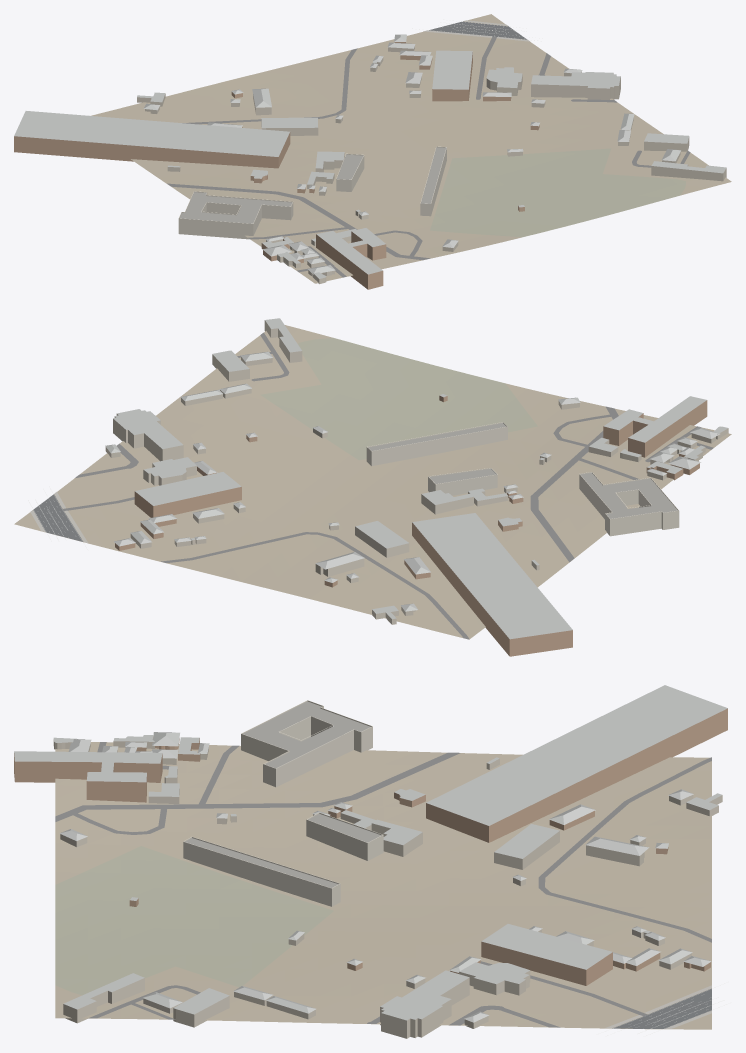
The model's file is bolak_-12_-4.glb.
3 views of the same model, one above another, from view 1: azimuth 30°, elevation 25°; view 2: azimuth 150°, elevation 25°; view 3: azimuth 270°, elevation 25° (orthographic). The views are drawn at different scales.
Parts seen in each view (by area): view 1: Yer_Tuproq-col, Tom_Shifer, Yer_Qabr, Devor_Gisht-col, Devor_Suvoq-col, Devor_Jamoat-col, Yol_Mahalla-col, Tom_Tekis, Yol_Asfalt-col; view 2: Yer_Tuproq-col, Tom_Shifer, Yer_Qabr, Devor_Gisht-col, Devor_Suvoq-col, Devor_Jamoat-col, Yol_Mahalla-col, Tom_Tekis, Yol_Asfalt-col; view 3: Yer_Tuproq-col, Tom_Shifer, Yer_Qabr, Devor_Gisht-col, Devor_Suvoq-col, Devor_Jamoat-col, Yol_Mahalla-col, Tom_Tekis, Yol_Asfalt-col.
Boxes of the visible parts, left/top/right/bottom form: Yer_Tuproq-col: left=91, top=14, right=731, bottom=283; Tom_Shifer: left=14, top=34, right=726, bottom=278; Yer_Qabr: left=430, top=148, right=685, bottom=237; Devor_Gisht-col: left=14, top=42, right=539, bottom=289; Devor_Suvoq-col: left=137, top=46, right=726, bottom=284; Devor_Jamoat-col: left=178, top=146, right=446, bottom=239; Yol_Mahalla-col: left=167, top=36, right=690, bottom=277; Tom_Tekis: left=179, top=147, right=446, bottom=223; Yol_Asfalt-col: left=429, top=21, right=527, bottom=39; Yer_Tuproq-col: left=14, top=325, right=731, bottom=639; Tom_Shifer: left=105, top=318, right=728, bottom=639; Yer_Qabr: left=260, top=338, right=537, bottom=460; Devor_Gisht-col: left=115, top=395, right=707, bottom=656; Devor_Suvoq-col: left=105, top=320, right=728, bottom=624; Devor_Jamoat-col: left=366, top=422, right=679, bottom=536; Yol_Mahalla-col: left=63, top=332, right=713, bottom=639; Tom_Tekis: left=368, top=423, right=677, bottom=518; Yol_Asfalt-col: left=33, top=494, right=83, bottom=541; Yer_Tuproq-col: left=55, top=742, right=711, bottom=1029; Tom_Shifer: left=14, top=685, right=727, bottom=1022; Yer_Qabr: left=55, top=846, right=333, bottom=995; Devor_Gisht-col: left=14, top=708, right=727, bottom=985; Devor_Suvoq-col: left=53, top=736, right=722, bottom=1038; Devor_Jamoat-col: left=183, top=700, right=383, bottom=906; Yol_Mahalla-col: left=55, top=742, right=711, bottom=1027; Tom_Tekis: left=185, top=701, right=381, bottom=888; Yol_Asfalt-col: left=612, top=988, right=711, bottom=1028.
Size of what is drawn, in the model's own units: 492 by 21.92 by 437.
